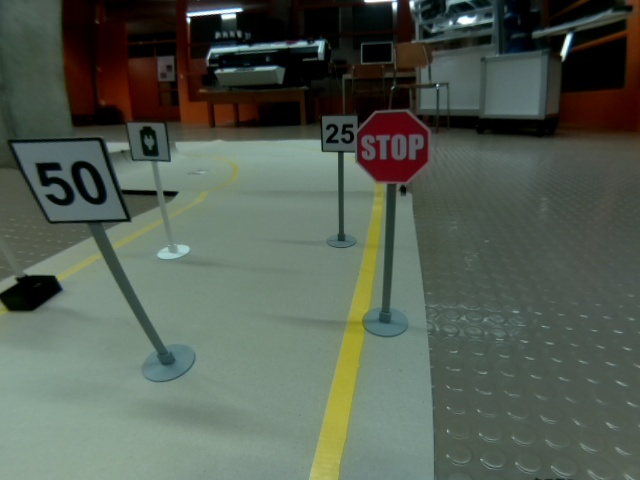battery: (126, 120, 171, 162)
speed25: (320, 114, 359, 153)
speed50: (6, 138, 131, 224)
stop: (354, 105, 431, 184)
